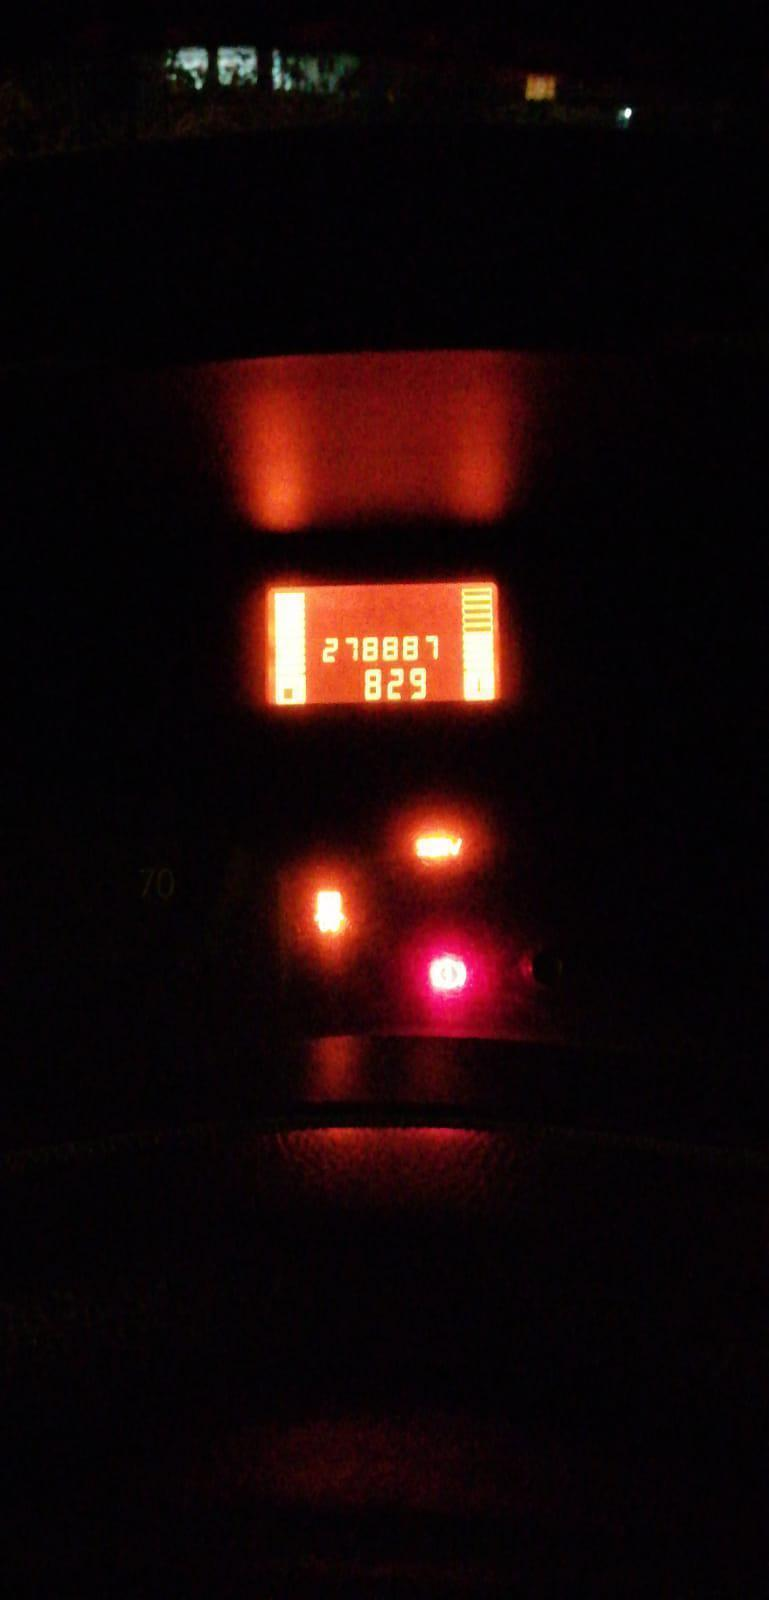2: (386, 667, 404, 700), (321, 637, 338, 663)
7: (344, 636, 358, 662), (424, 634, 439, 660)
8: (363, 668, 382, 701), (361, 636, 379, 662), (401, 635, 418, 661), (381, 636, 398, 662)
9: (408, 667, 426, 700)
odometer: (261, 580, 500, 707)
